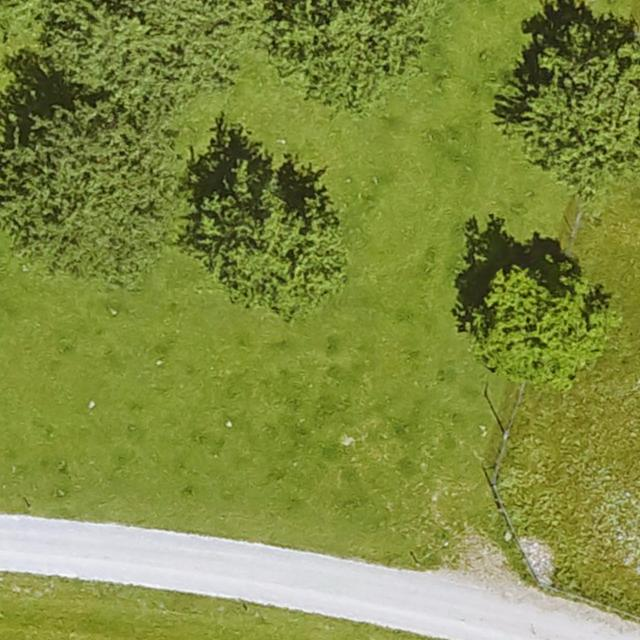tree: (0, 100, 185, 284), (47, 0, 262, 108), (518, 24, 640, 186), (198, 188, 346, 314), (268, 0, 426, 103), (473, 265, 602, 384)
